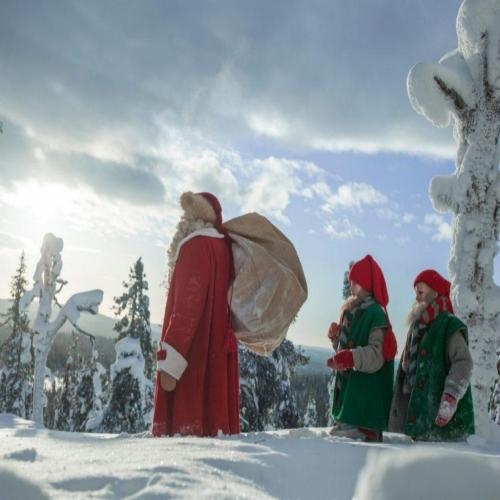Santa: (152, 190, 239, 436)
